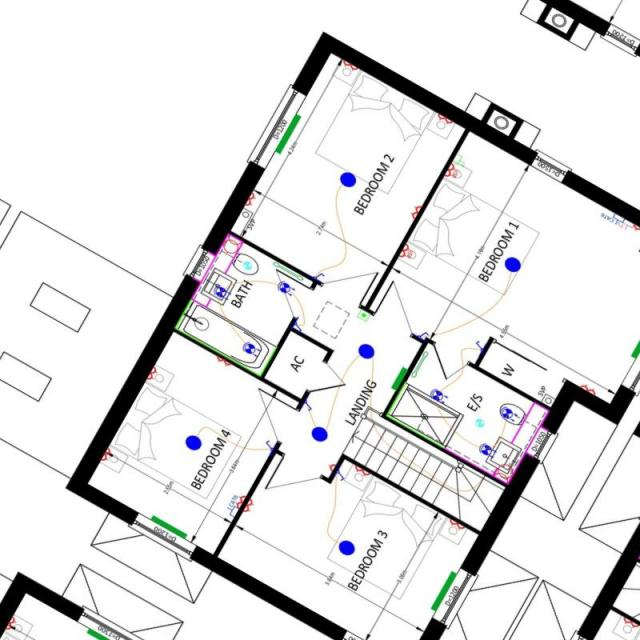Cat 6 Data Socket: (600, 212, 624, 226), (226, 494, 238, 516)
Ceiling Mounted Continuous Extract FanWith Boost Mode Activated By Light Switch: (474, 418, 484, 427), (242, 261, 252, 269)
Co-Ax TV Socket: (616, 218, 634, 229)
Double Socket: (578, 382, 596, 396), (443, 162, 458, 178), (354, 464, 370, 477), (622, 615, 638, 628), (398, 244, 412, 258), (436, 112, 452, 124), (448, 518, 464, 530), (100, 446, 113, 460), (342, 58, 357, 70), (409, 205, 422, 218), (4, 616, 16, 630), (216, 355, 231, 366), (243, 192, 255, 205), (234, 494, 245, 508), (242, 498, 253, 512), (146, 366, 156, 379)
Full Height Tiling: (174, 300, 275, 375), (386, 382, 450, 448)
Light Switch: (302, 398, 312, 412), (336, 468, 345, 482), (314, 270, 326, 280), (474, 339, 483, 351), (265, 438, 273, 451), (418, 329, 428, 338), (294, 322, 303, 331)
Low Energy Downlighter: (498, 406, 520, 422), (242, 340, 260, 358), (213, 283, 230, 300), (430, 387, 448, 403), (478, 442, 496, 458), (277, 280, 294, 296)
Low Energy Pendant Light: (504, 256, 521, 272), (358, 342, 374, 358), (185, 434, 201, 450), (338, 539, 354, 555), (310, 426, 328, 440), (339, 172, 356, 186)
Programmable Room Thermostat: (356, 308, 370, 321)
Radiator: (275, 112, 301, 154), (430, 570, 456, 610), (150, 514, 187, 540), (390, 366, 408, 389), (86, 628, 113, 639), (630, 342, 639, 359)
Shaver Socket: (222, 234, 242, 254), (494, 461, 512, 482)
Single Socket: (327, 462, 335, 470), (633, 223, 639, 233)
Telephone Socket: (451, 153, 465, 166)
